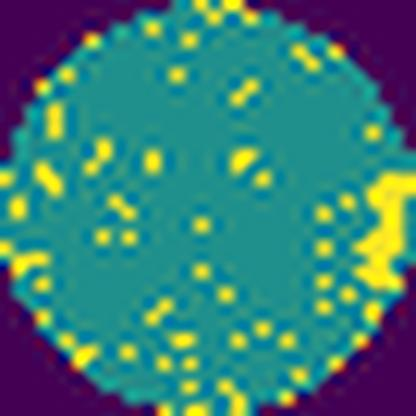Loc: (352, 172, 416, 294)
